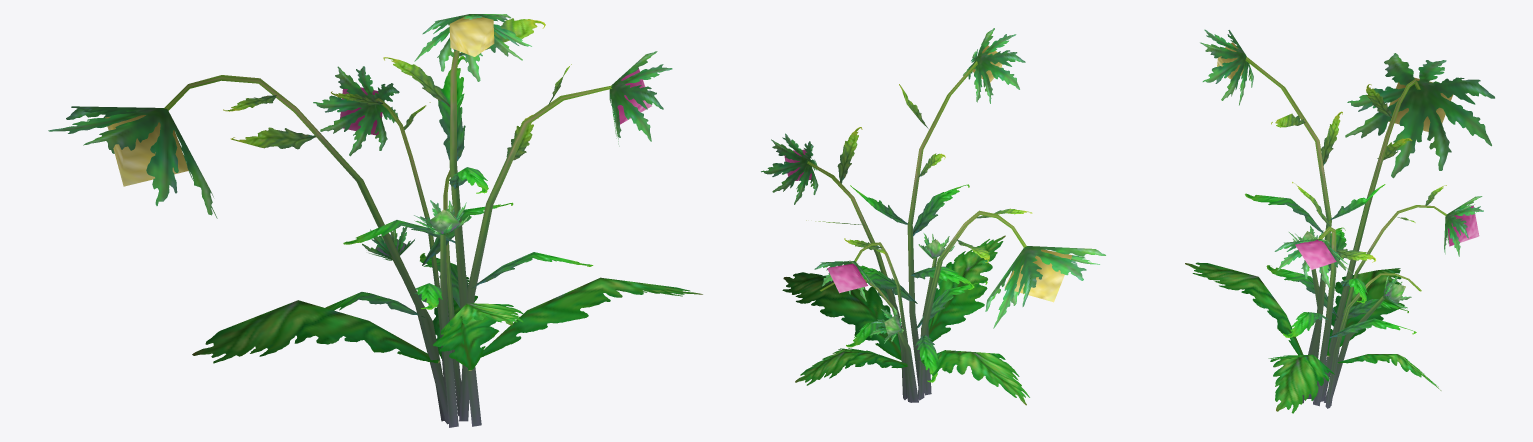
Rendered from zhi_wu_005.FBX.
3 renders of one model, left to right at view 1: azimuth 30°, elevation 25°; view 2: azimuth 150°, elevation 25°; view 3: azimuth 270°, elevation 25°, orthographic. The views are drawn at different scales.
Visible parts, largest first — view 1: zhi_wu_005; view 2: zhi_wu_005; view 3: zhi_wu_005.
Part boxes in pixels (x1,y1,x2,y2): zhi_wu_005: (48,14,702,427); zhi_wu_005: (761,28,1105,405); zhi_wu_005: (1185,29,1494,413).
Size of the model in its own units: 232 by 181 by 160.
1 material, 1 textured.
